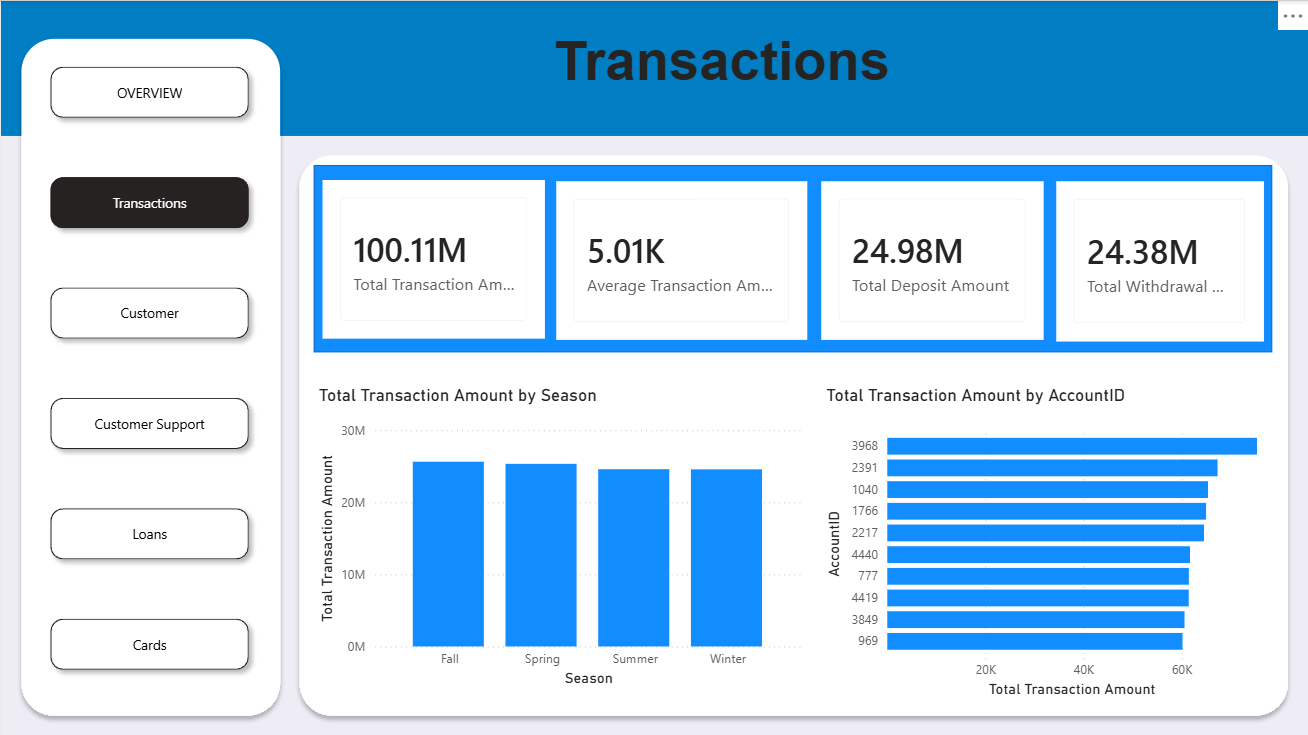

This screenshot's page, from the dashboard's own definition file:
{"tool":"powerbi","page":{"name":"Transactions","canvas":[1280,720],"ordinal":1},"visuals":[{"type":"image","box":[0,0,1280.3,720.2],"z":0},{"type":"pageNavigator","box":[40.4,56.3,212.8,611.4],"z":1000},{"type":"textbox","box":[536.8,24.5,353.4,81.9],"z":2000},{"type":"shape","box":[306.9,161.4,937.9,183.4],"z":3000},{"type":"cardVisual","fields":{"Data":["Banking_Analytics_Transactions_Updated.Total Transaction Amount"]},"box":[315.5,176.1,217.7,155.3],"z":4000},{"type":"cardVisual","fields":{"Data":["Banking_Analytics_Transactions_Updated.Average Transaction Amount"]},"box":[544.2,177.3,245.8,155.3],"z":5000},{"type":"cardVisual","fields":{"Data":["Banking_Analytics_Transactions_Updated.Total Deposit Amount"]},"box":[803.4,177.3,217.7,155.3],"z":6000},{"type":"cardVisual","fields":{"Data":["Banking_Analytics_Transactions_Updated.Total Withdrawal Amount"]},"box":[1033.3,177.3,203,156.5],"z":7000},{"type":"clusteredColumnChart","fields":{"Category":["Banking_Analytics_Transactions_Updated.Season"],"Y":["Banking_Analytics_Transactions_Updated.Total Transaction Amount"]},"box":[306.9,376.6,483,299.6],"z":8000},{"type":"barChart","fields":{"Category":["Banking_Analytics_Transactions_Updated.AccountID"],"Y":["Banking_Analytics_Transactions_Updated.Total Transaction Amount"]},"box":[803.4,376.6,441.4,299.6],"z":9000}]}

Visuals, with their boxes in screenshot pixels (x1, y1, x2, y2), scaled from the page's 1280x720 canvas onto the 1308x735 screenshot:
image: [0, 0, 1307, 734]
pageNavigator: [41, 57, 259, 682]
textbox: [549, 25, 910, 109]
shape: [314, 165, 1272, 352]
cardVisual - Banking_Analytics_Transactions_Updated.Total Transaction Amount: [322, 180, 545, 338]
cardVisual - Banking_Analytics_Transactions_Updated.Average Transaction Amount: [556, 181, 807, 340]
cardVisual - Banking_Analytics_Transactions_Updated.Total Deposit Amount: [821, 181, 1043, 340]
cardVisual - Banking_Analytics_Transactions_Updated.Total Withdrawal Amount: [1056, 181, 1263, 341]
clusteredColumnChart - Banking_Analytics_Transactions_Updated.Season x Banking_Analytics_Transactions_Updated.Total Transaction Amount: [314, 384, 807, 690]
barChart - Banking_Analytics_Transactions_Updated.AccountID x Banking_Analytics_Transactions_Updated.Total Transaction Amount: [821, 384, 1272, 690]
